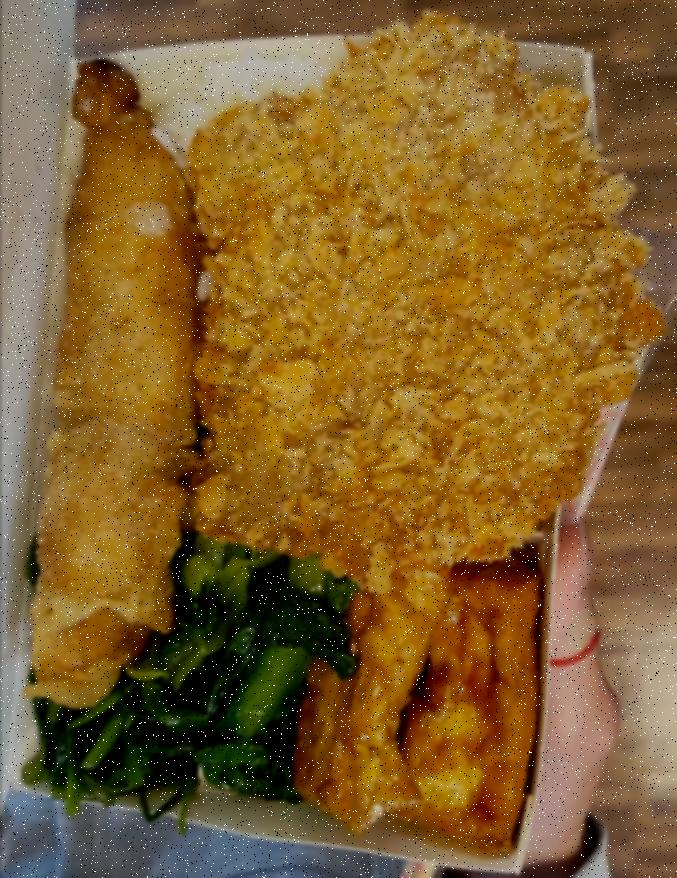box: (12, 17, 598, 872)
fried chicken rolls: (28, 56, 204, 702)
fried pork chops: (182, 17, 668, 580)
side dish: (19, 524, 340, 803), (294, 528, 546, 846)
white rice: (152, 44, 331, 152)
